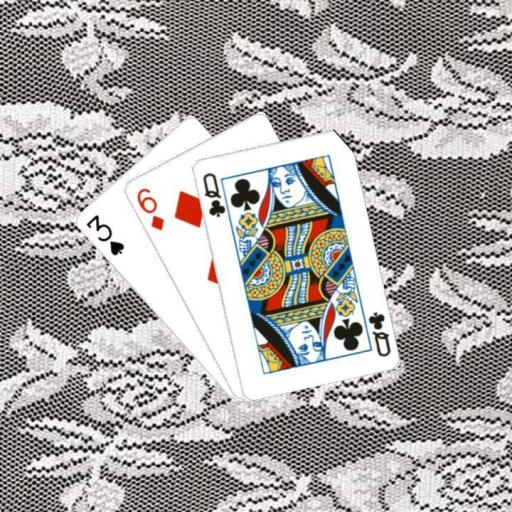card-corner: (82, 212, 126, 258), (133, 184, 166, 232), (199, 169, 227, 219), (365, 308, 392, 358)
